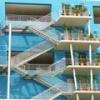stairs: (27, 24, 60, 46)
